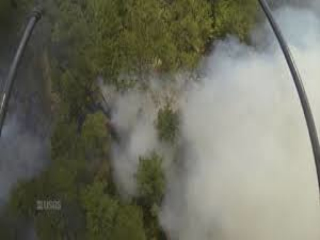smoke: (100, 44, 311, 231)
